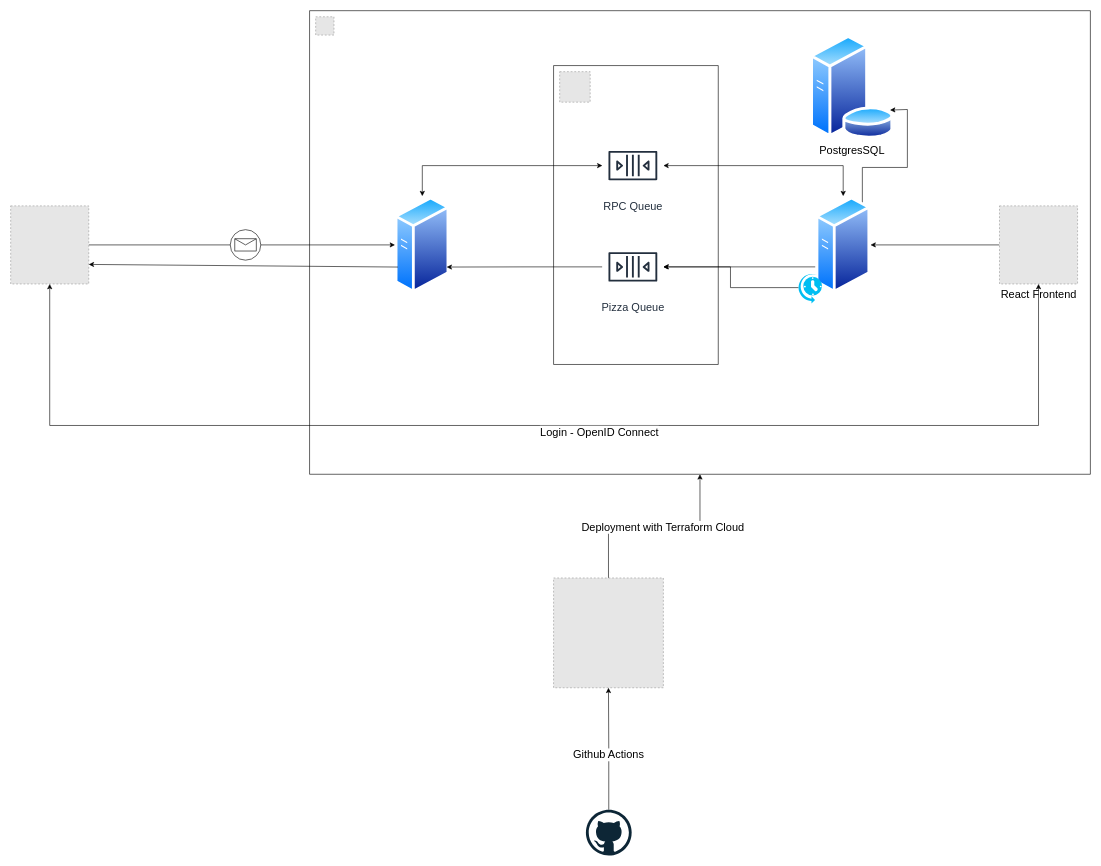
The diagram is 1101 pixels wide and 866 high, and some of its shapes have lost their labels. Grey dashed boxes stand in for pictures. The centre of each missing label's shape, as x and y in pixels:
"Backend Server (Python)" belongs at point (843, 244).
"Slack Bot (Python - Bolt framework)" belongs at point (422, 244).
